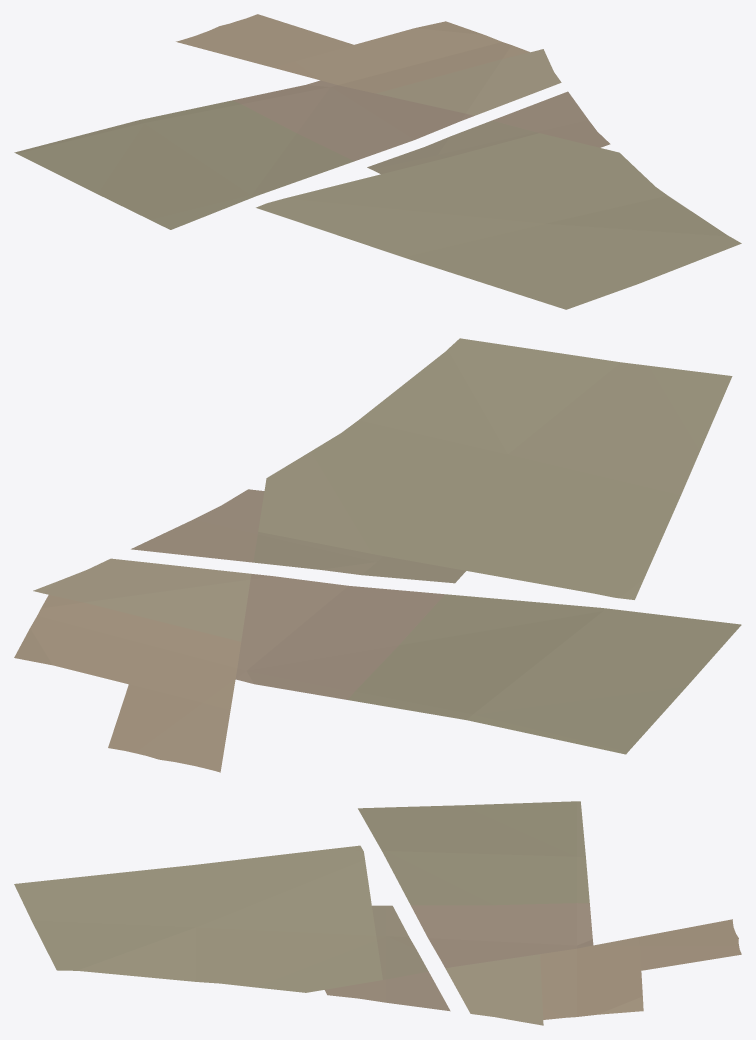
Rendered from farm_17_3_soil.glb.
3 views of the same model, one above another, from view 1: azimuth 30°, elevation 25°; view 2: azimuth 150°, elevation 25°; view 3: azimuth 270°, elevation 25° (orthographic). The views are drawn at different scales.
Parts seen in each view (by area): view 1: geometry_0; view 2: geometry_0; view 3: geometry_0.
Boxes of the visible parts, <box> form: geometry_0: <box>14,14,741,309</box>; geometry_0: <box>14,338,741,772</box>; geometry_0: <box>14,801,741,1025</box>.
Bounding box in the file's own units: 219 × 13.34 × 306.
